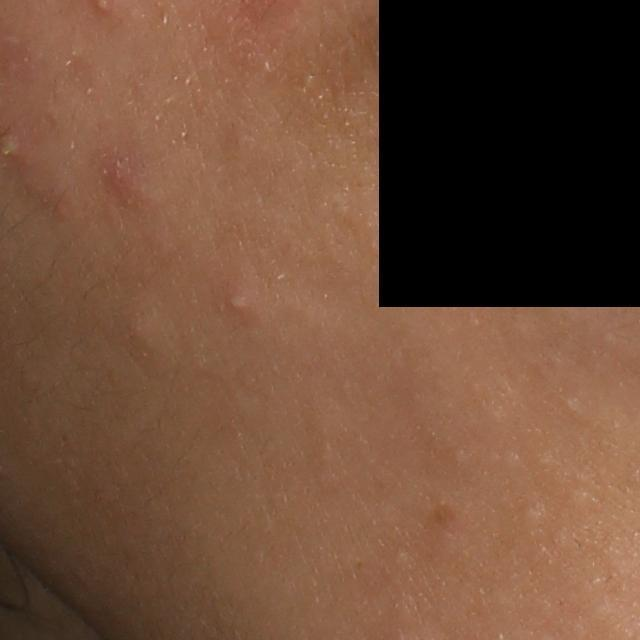pustule: (224, 288, 253, 318)
